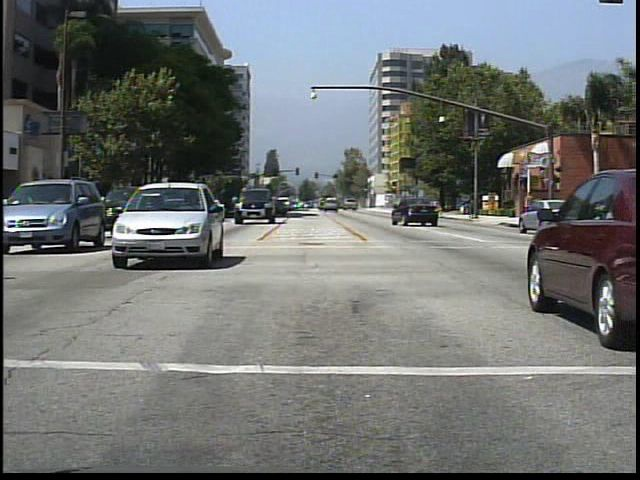person: (566, 190, 587, 235), (520, 192, 538, 229)
